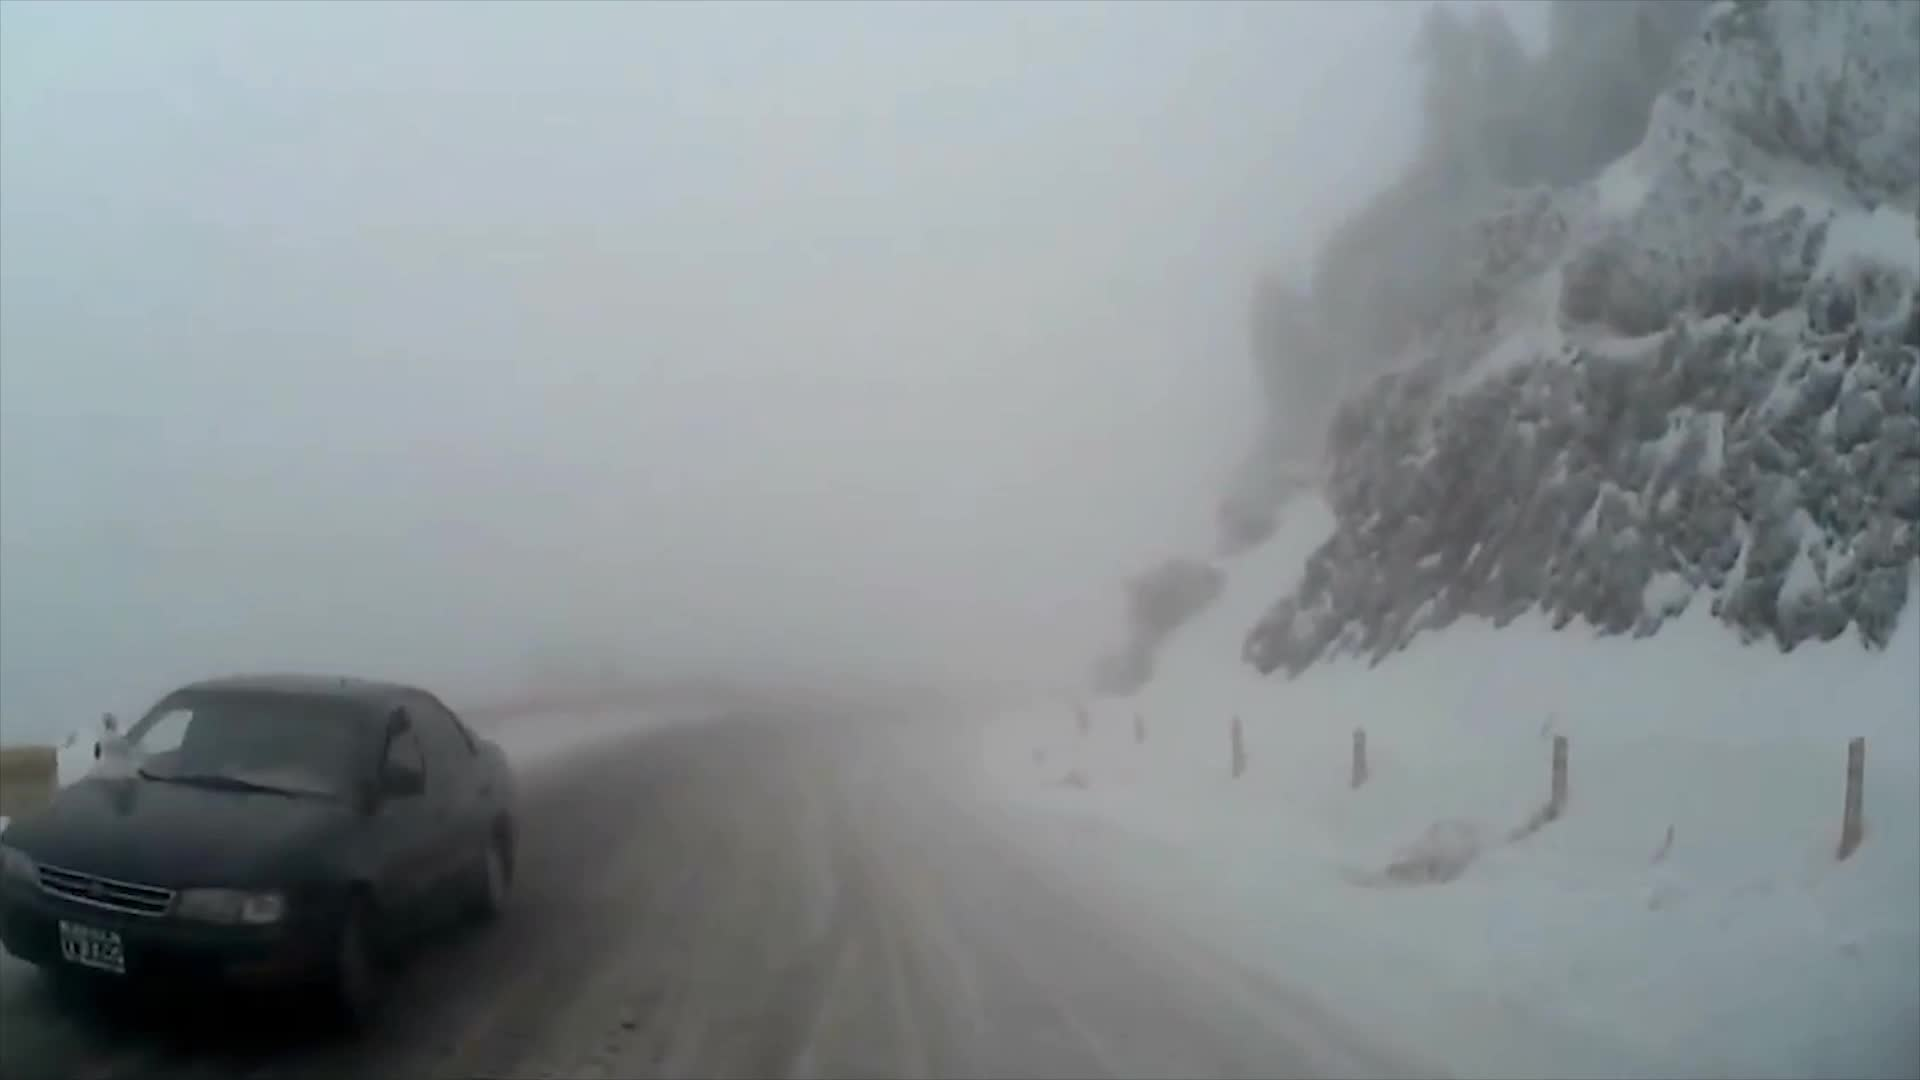vehicle: (0, 669, 518, 1035)
